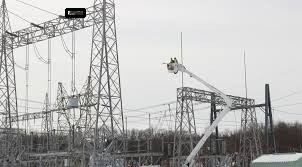bird-nest: (69, 9, 84, 16)
